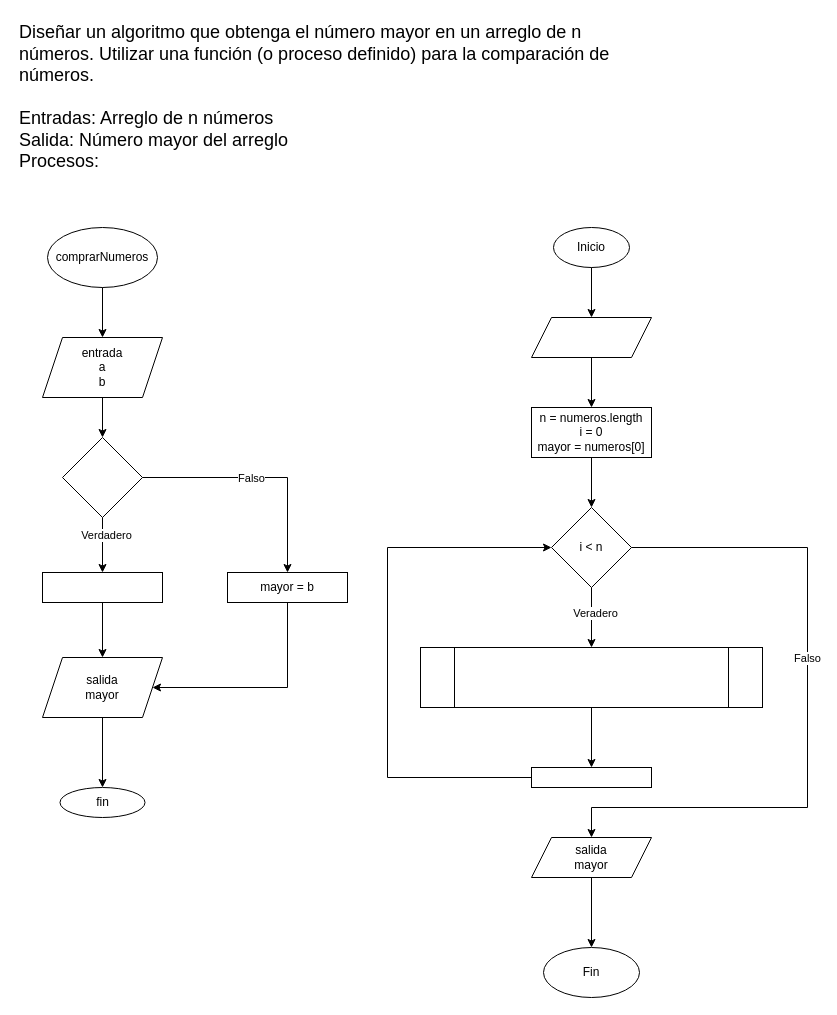
The diagram is 837 pixels wide and 1015 high, and some of its shapes have lost their labels. Each missing label, with the centre of its shape:
a >= b: point 102,477
entrada numeros []: point 591,337
i++: point 591,777
mayor = a: point 102,587
mayor = compararNumeros(mayor, numeros[i]): point 591,677
